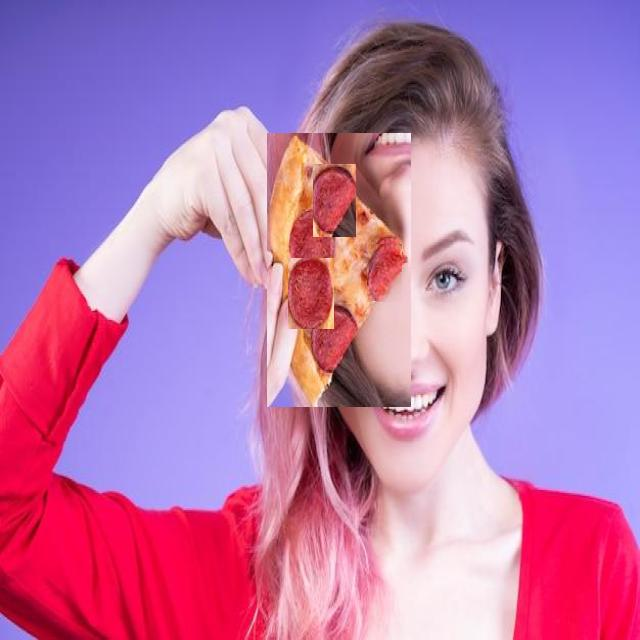pepperoni: (288, 258, 334, 329), (313, 164, 356, 237), (367, 244, 402, 302)
pizza: (267, 133, 411, 407)
